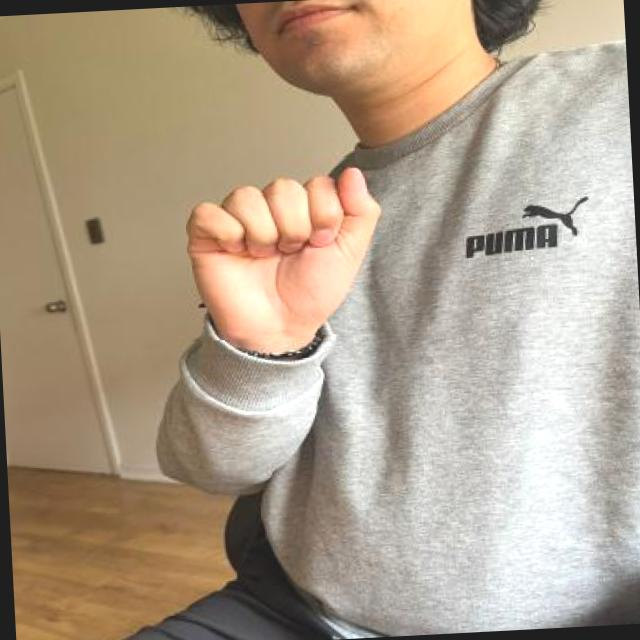A: (180, 153, 396, 342)
